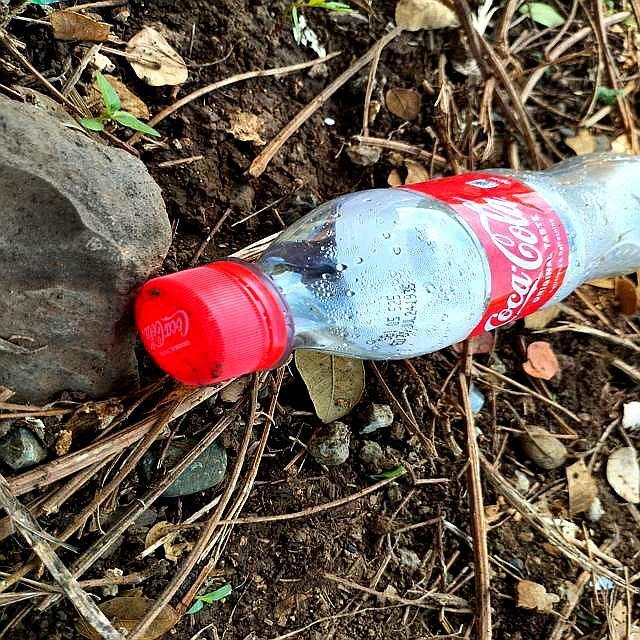Non-biodegradable: (107, 149, 640, 409)
